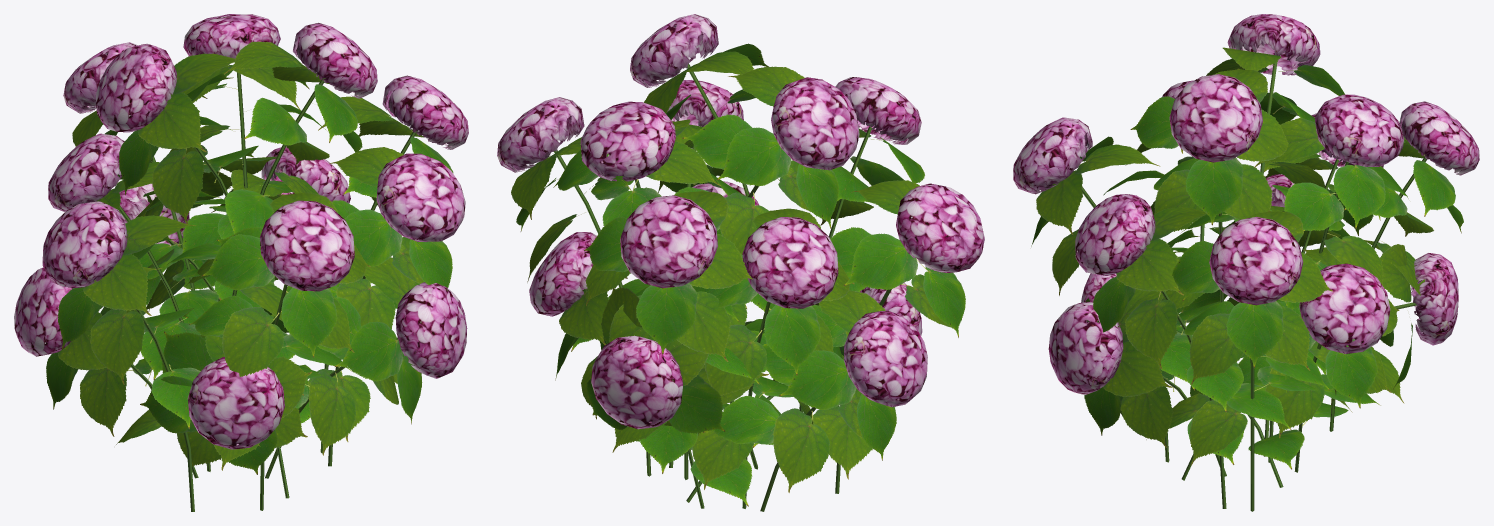
Rendered from NaturePlant02_2.FBX.
3 views of the same model, side by side, from view 1: azimuth 30°, elevation 25°; view 2: azimuth 150°, elevation 25°; view 3: azimuth 270°, elevation 25° (orthographic). The views are drawn at different scales.
Visible parts, largest first — view 1: NaturePlant02_2; view 2: NaturePlant02_2; view 3: NaturePlant02_2.
Part boxes in pixels (x1,y1,x2,y2): NaturePlant02_2: (14,14,468,511); NaturePlant02_2: (497,14,984,511); NaturePlant02_2: (1013,14,1479,511).
Size of the model in its own units: 0.5908 by 0.5735 by 0.5671.
